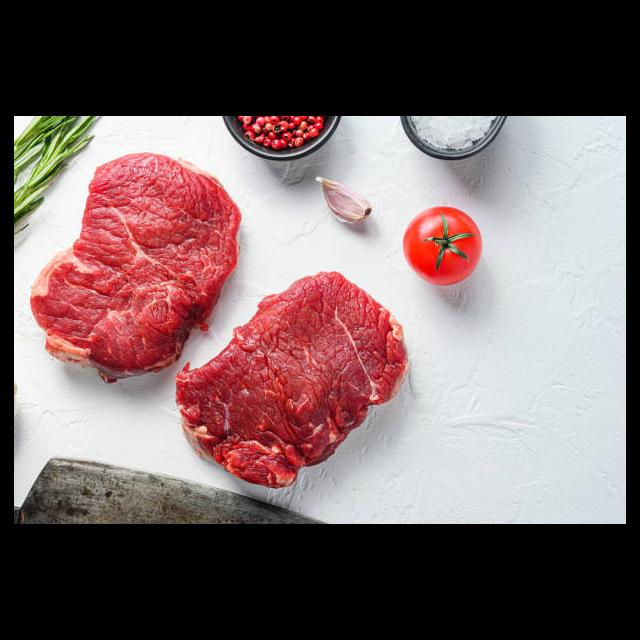beef: (173, 269, 410, 488), (28, 151, 243, 384)
